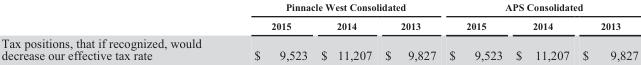table: (0, 1, 637, 61)
table column: (0, 1, 227, 61), (227, 1, 313, 61), (441, 1, 508, 61), (508, 1, 575, 61), (313, 1, 377, 61), (377, 1, 441, 61), (575, 1, 637, 61)
table column header: (0, 1, 637, 33)
table row: (0, 33, 637, 61), (0, 16, 637, 33), (0, 1, 637, 16)
table spanning cell: (227, 1, 441, 16), (441, 1, 637, 16)
